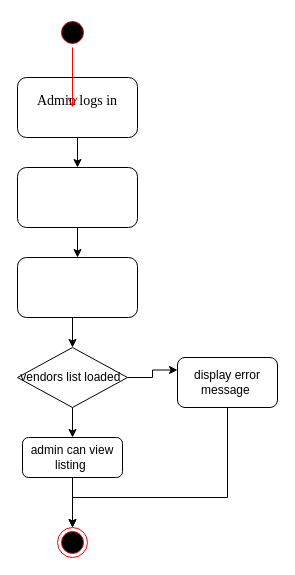
Some shapes in this 295 by 575 pixel diagram are drawn without their labels. Each missing label, with the box of its shape:
"view all vendors": (16, 256, 138, 318)
admin navigates to "vendors" section: (16, 166, 138, 228)
